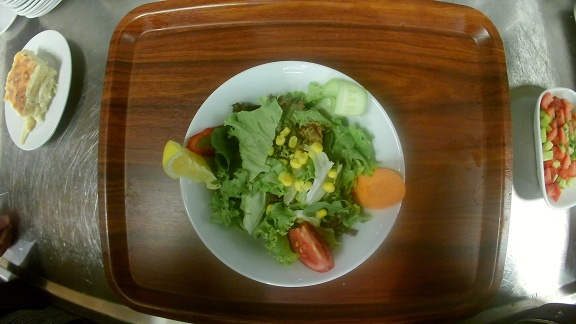salata: (164, 59, 407, 288)
